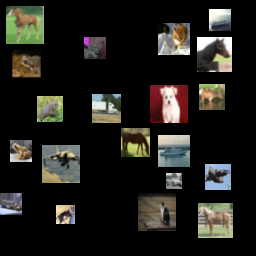airplane: (42, 145, 80, 183), (205, 164, 231, 190)
automobile: (166, 173, 182, 189)
cat: (138, 193, 176, 231), (158, 23, 190, 55), (56, 205, 75, 224)
deer: (199, 84, 225, 110)
dog: (150, 85, 188, 123)
frog: (12, 49, 41, 78), (37, 96, 63, 122), (10, 140, 32, 162), (84, 37, 106, 59)
ship: (158, 135, 190, 167), (209, 9, 231, 31)
